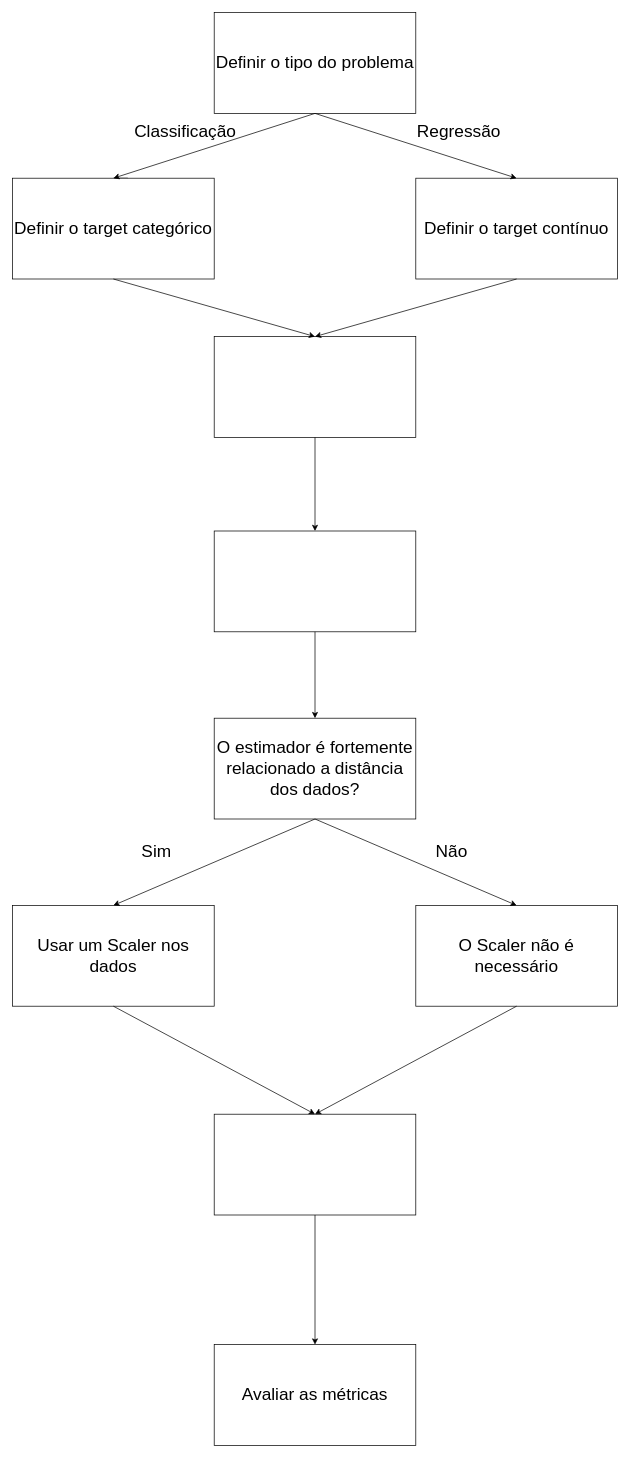
Some shapes in this 630 by 1458 pixel diagram are drawn without their labels. The shapes that lost their labels are listed below. From the top down, each one's centre as x and y in pixels, then its label:
At (314,386): "Avaliar a remoção dos outliers".
At (314,581): "Escolher o estimador".
At (314,1164): "Fazer o treinamento do modelo".
